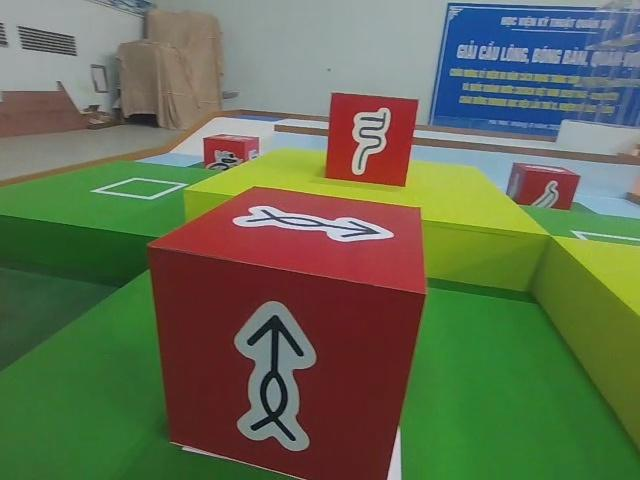R1: (201, 131, 261, 178)
R2 Fake: (321, 90, 422, 188)
R2 Real: (147, 182, 433, 480), (501, 158, 582, 220)
